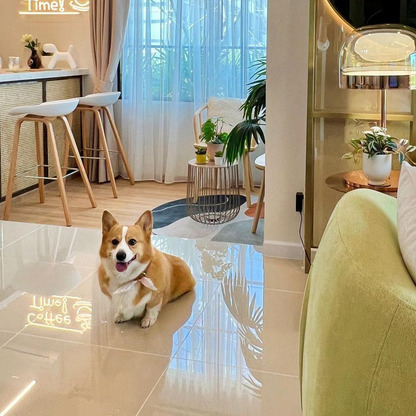Corgi: (82, 204, 215, 341)
